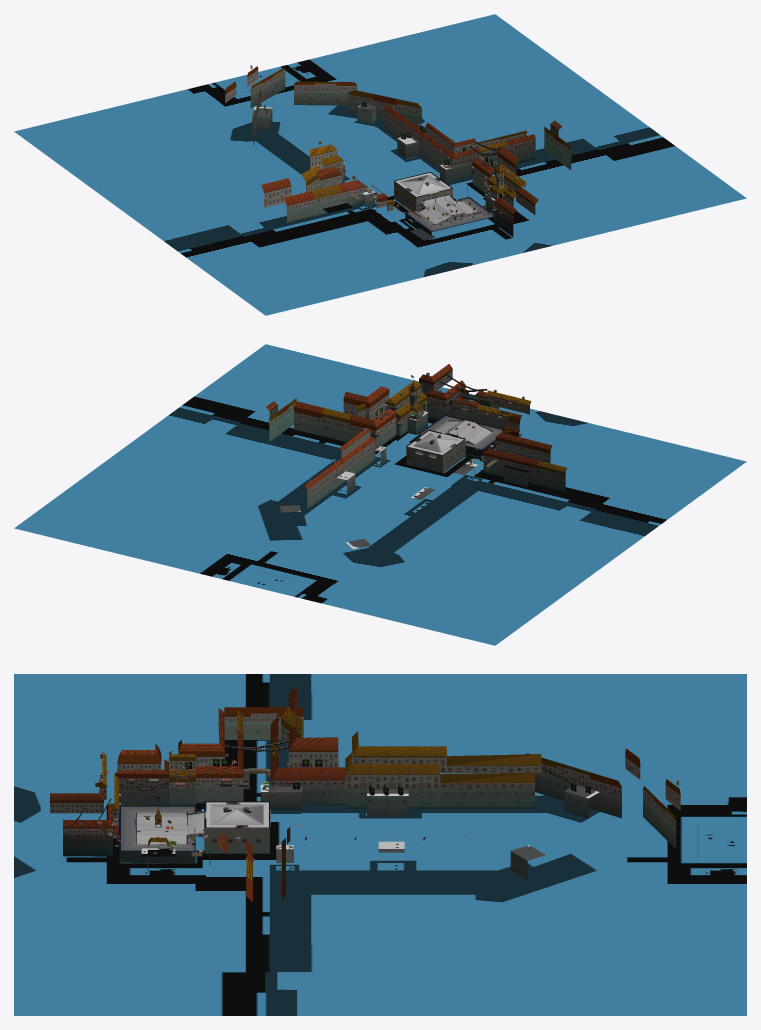
The model's file is course.glb.
The picture shows the model from 3 angles, top to bottom: view 1: azimuth 30°, elevation 25°; view 2: azimuth 150°, elevation 25°; view 3: azimuth 270°, elevation 25°; orthographic projection. The views are drawn at different scales.
Parts seen in each view (by area): view 1: polygon118, polygon8, polygon7, polygon6, polygon122, polygon0, polygon128; view 2: polygon118, polygon8, polygon7, polygon0, polygon6, polygon122; view 3: polygon118, polygon8, polygon6, polygon7, polygon122, polygon0, polygon128, polygon112, polygon39, polygon41, polygon59, polygon40 (+2 smaller).
Boxes of the visible parts, left/top/right/bottom form: polygon118: left=14, top=14, right=746, bottom=315; polygon8: left=225, top=66, right=571, bottom=236; polygon7: left=261, top=104, right=562, bottom=218; polygon6: left=301, top=141, right=526, bottom=218; polygon122: left=252, top=103, right=505, bottom=224; polygon0: left=250, top=65, right=527, bottom=227; polygon128: left=407, top=198, right=492, bottom=231; polygon118: left=14, top=344, right=746, bottom=645; polygon8: left=269, top=368, right=565, bottom=509; polygon7: left=266, top=364, right=552, bottom=489; polygon0: left=304, top=372, right=524, bottom=545; polygon6: left=322, top=380, right=566, bottom=472; polygon122: left=279, top=411, right=530, bottom=548; polygon118: left=14, top=674, right=746, bottom=1015; polygon8: left=50, top=707, right=680, bottom=880; polygon6: left=95, top=707, right=541, bottom=881; polygon7: left=50, top=685, right=425, bottom=901; polygon122: left=136, top=751, right=599, bottom=862; polygon0: left=97, top=753, right=679, bottom=861; polygon128: left=121, top=807, right=194, bottom=850; polygon112: left=211, top=804, right=263, bottom=825; polygon39: left=121, top=802, right=292, bottom=852; polygon41: left=69, top=740, right=578, bottom=853; polygon59: left=119, top=851, right=195, bottom=863; polygon40: left=142, top=784, right=408, bottom=852.
Size of the model in its own units: 2410 by 286 by 2183.
Materials: 25 (25 with a texture image).
